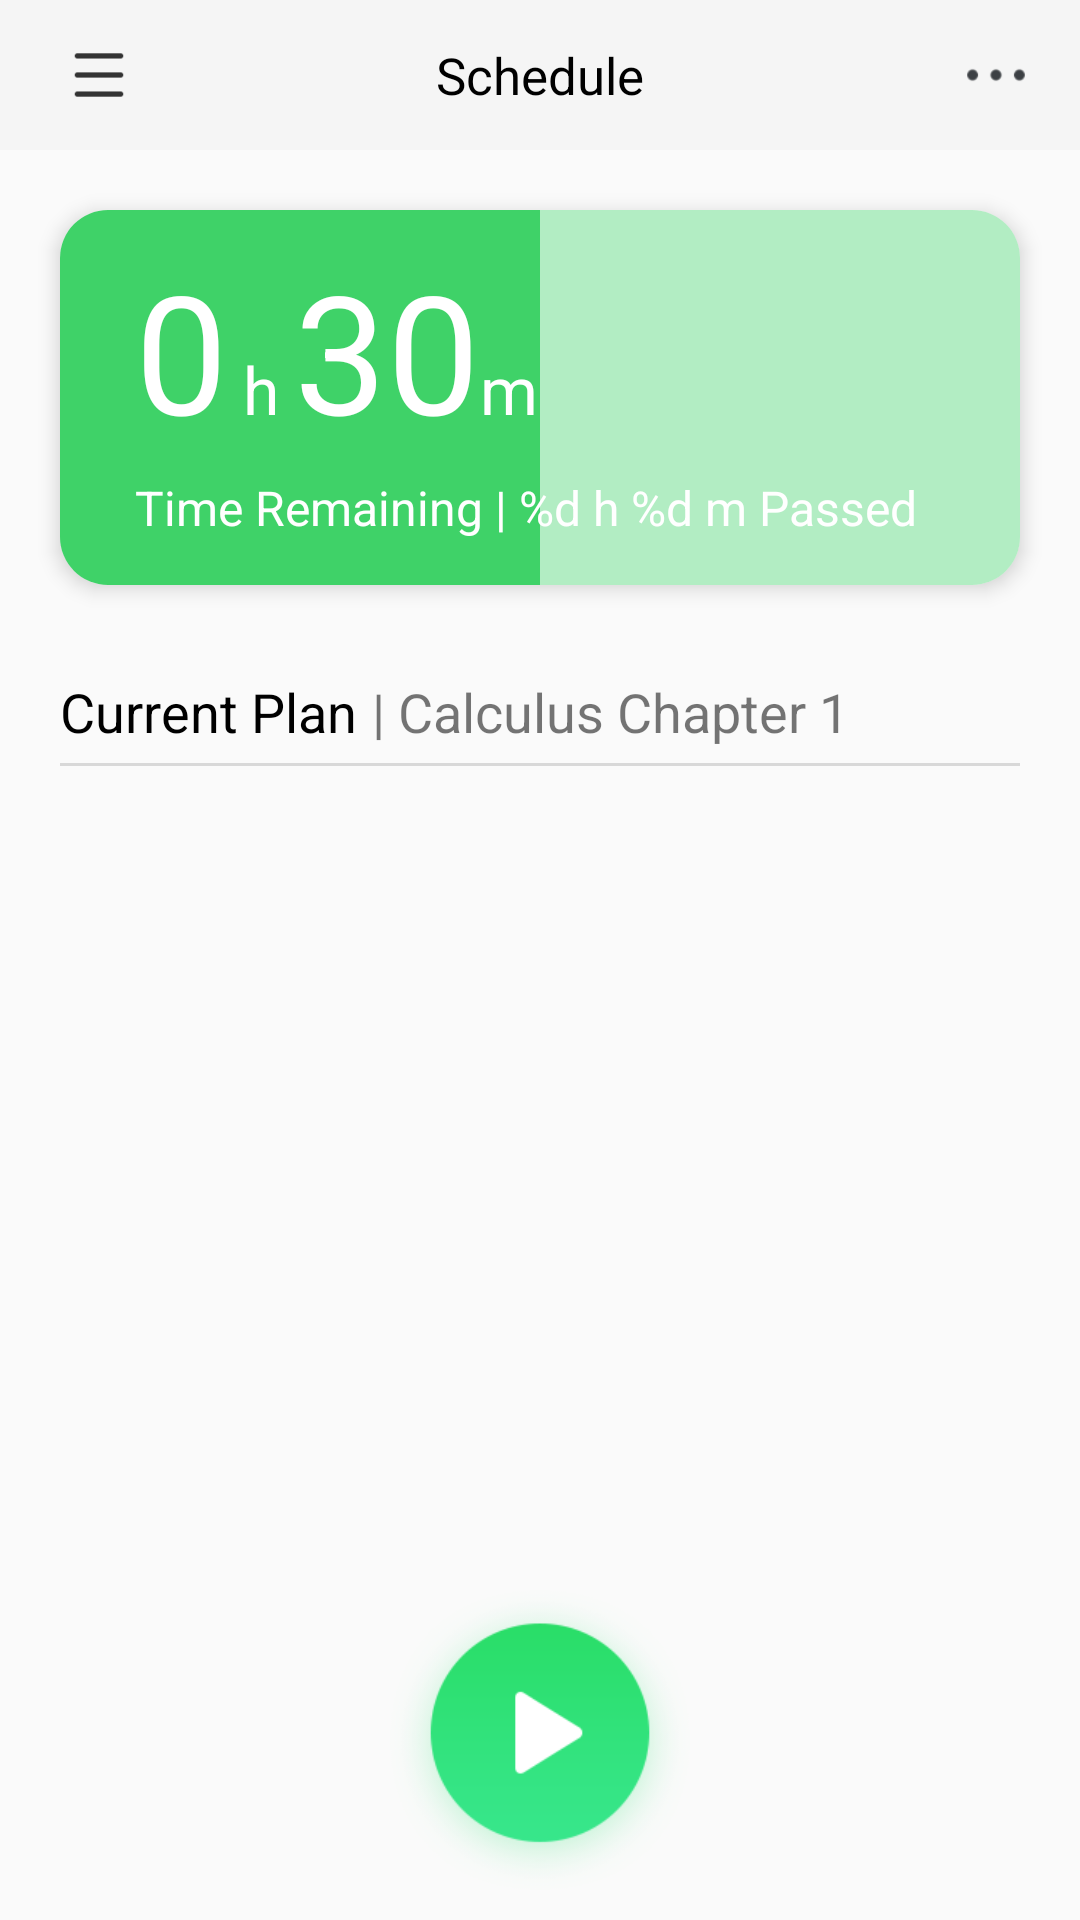

Where to tap for icons on this 1080w x 1920h app screen, as (x=x, y=y):
home detail more: (x=996, y=75)
navigation more: (x=99, y=75)
start: (x=540, y=1738)
